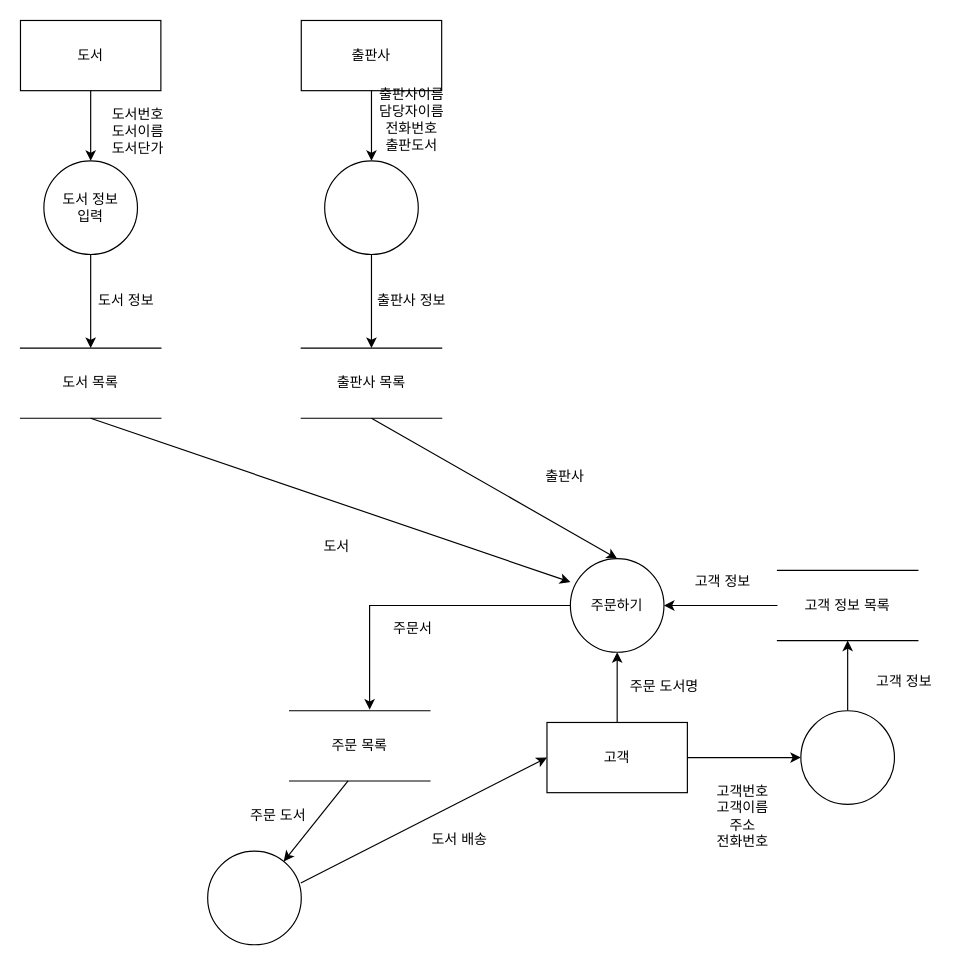
Some shapes in this 965 by 965 pixel diagram are drawn without their labels. The centre of each missing label's shape, as x and y in pixels:
고객 정보 입력: (847,757)
배송하기: (254,897)
출판사 정보 입력: (371,207)
